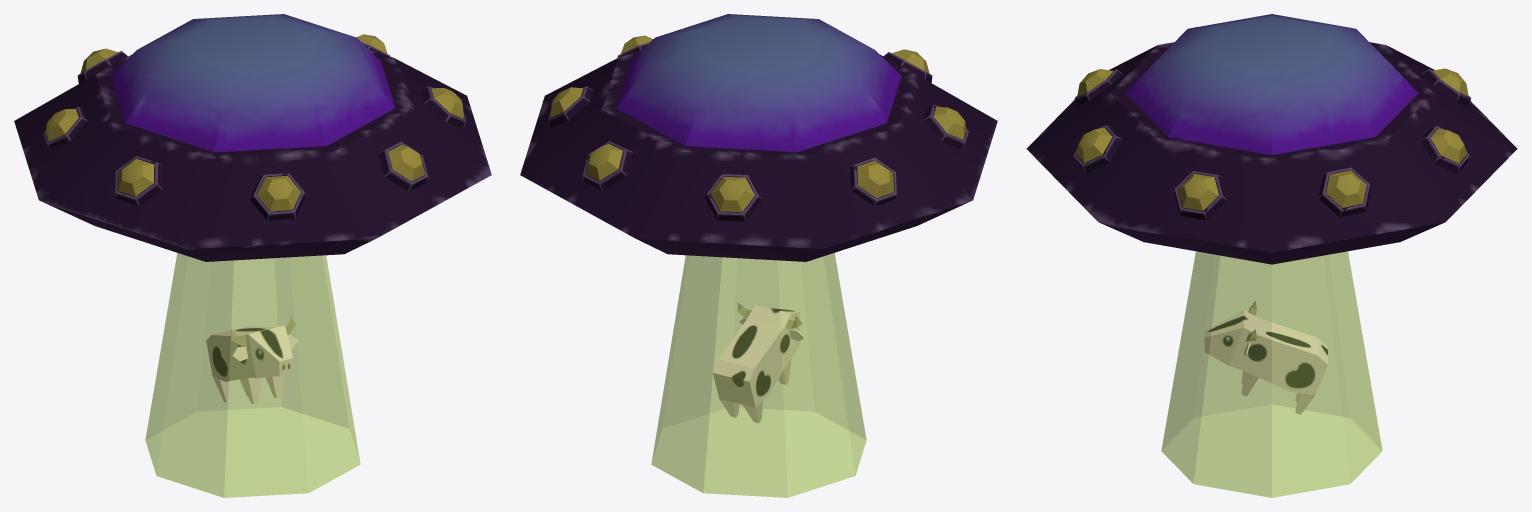
File: PROP_029_BarStool.fbx
3 views of the same model, side by side, from view 1: azimuth 30°, elevation 25°; view 2: azimuth 150°, elevation 25°; view 3: azimuth 270°, elevation 25° (orthographic).
Visible parts, largest first — view 1: Asiento; view 2: Asiento; view 3: Asiento.
Part boxes in pixels (x1=…): Asiento: x1=14, y1=14, x2=491, y2=497; Asiento: x1=520, y1=14, x2=997, y2=497; Asiento: x1=1026, y1=14, x2=1517, y2=497.
Size of the model in its own units: 2.96 by 2.68 by 2.96.
2 materials, 1 textured.
